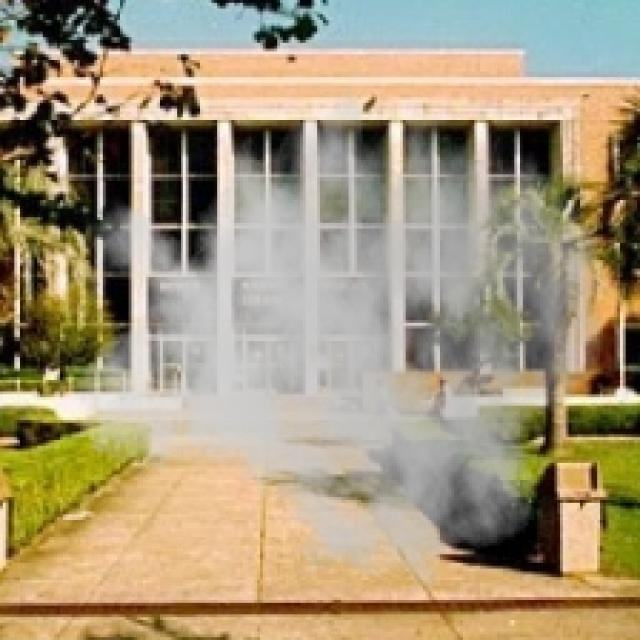Smoke: (71, 57, 606, 606)
